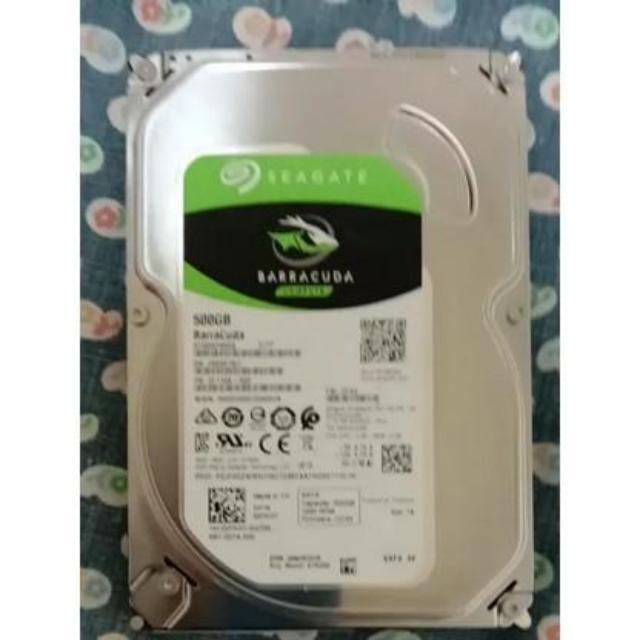DISK: (118, 42, 534, 630)
